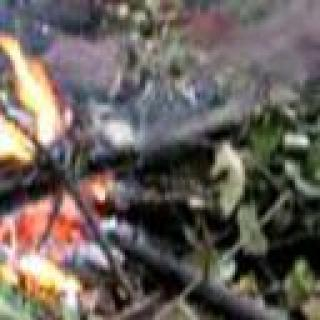fire: (0, 33, 133, 309)
